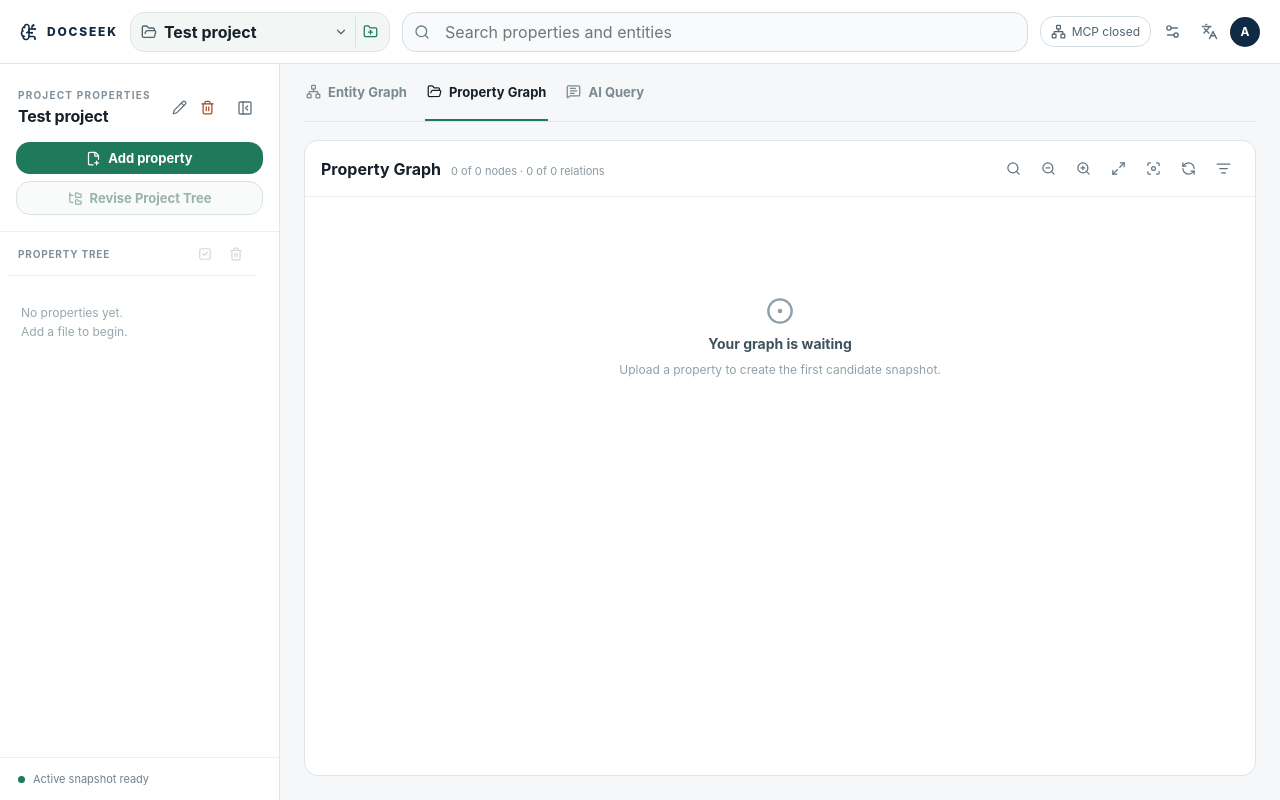
ProjectShell AI Query history › clears the active users persisted project history
Click the button "AI Query" at x=605, y=92, box [564,64,646,121]
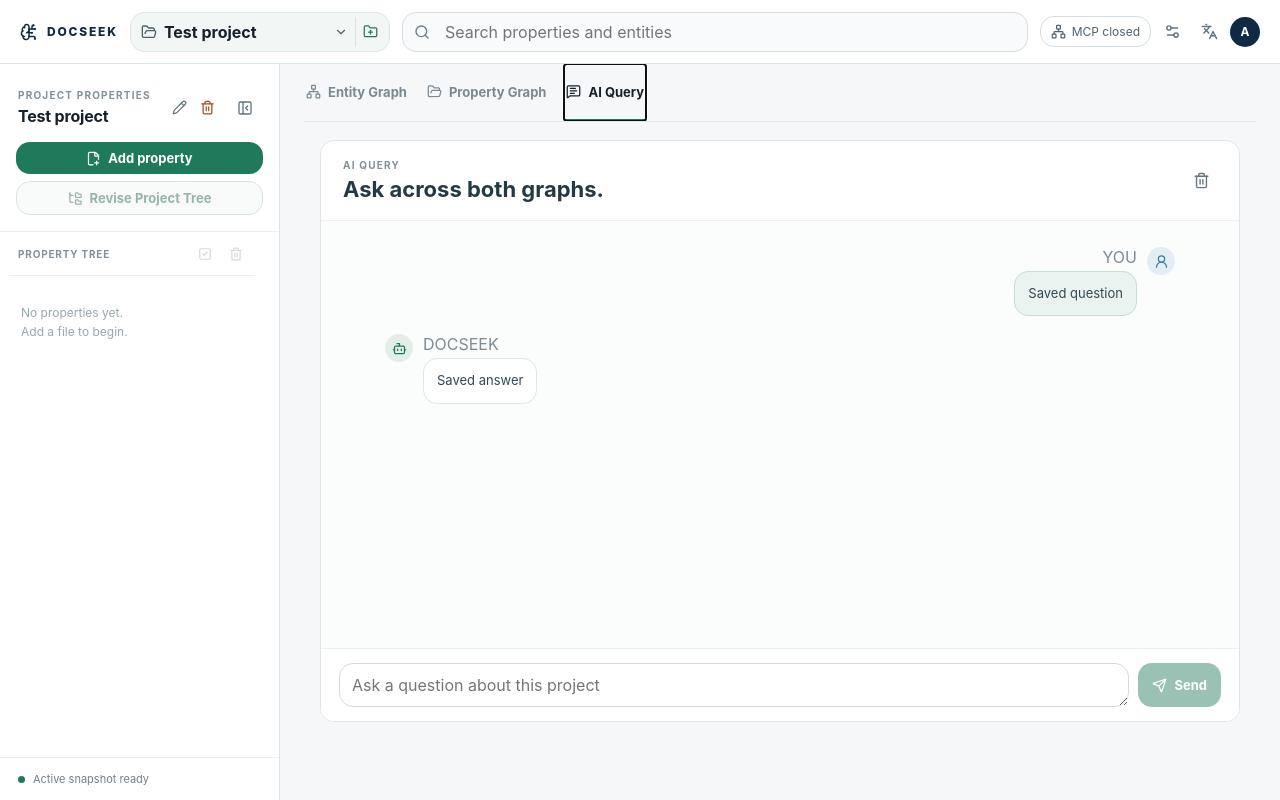
Expected: the text "Saved answer" is shown, [437,370,523,392]
Click the button named "Clear chat history" at x=1201, y=180, box [1185,164,1217,196]
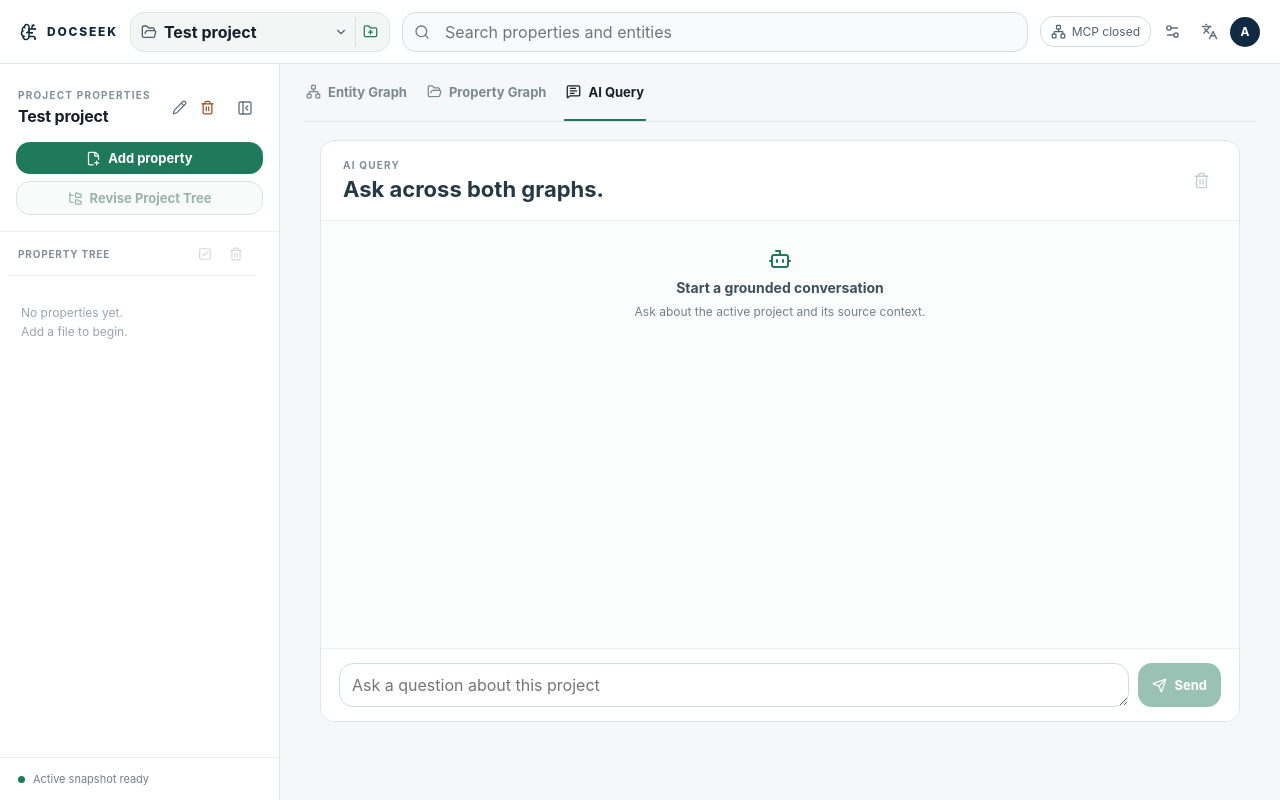
Expected: the text "Start a grounded conversation" is shown, [676,279,884,296]
